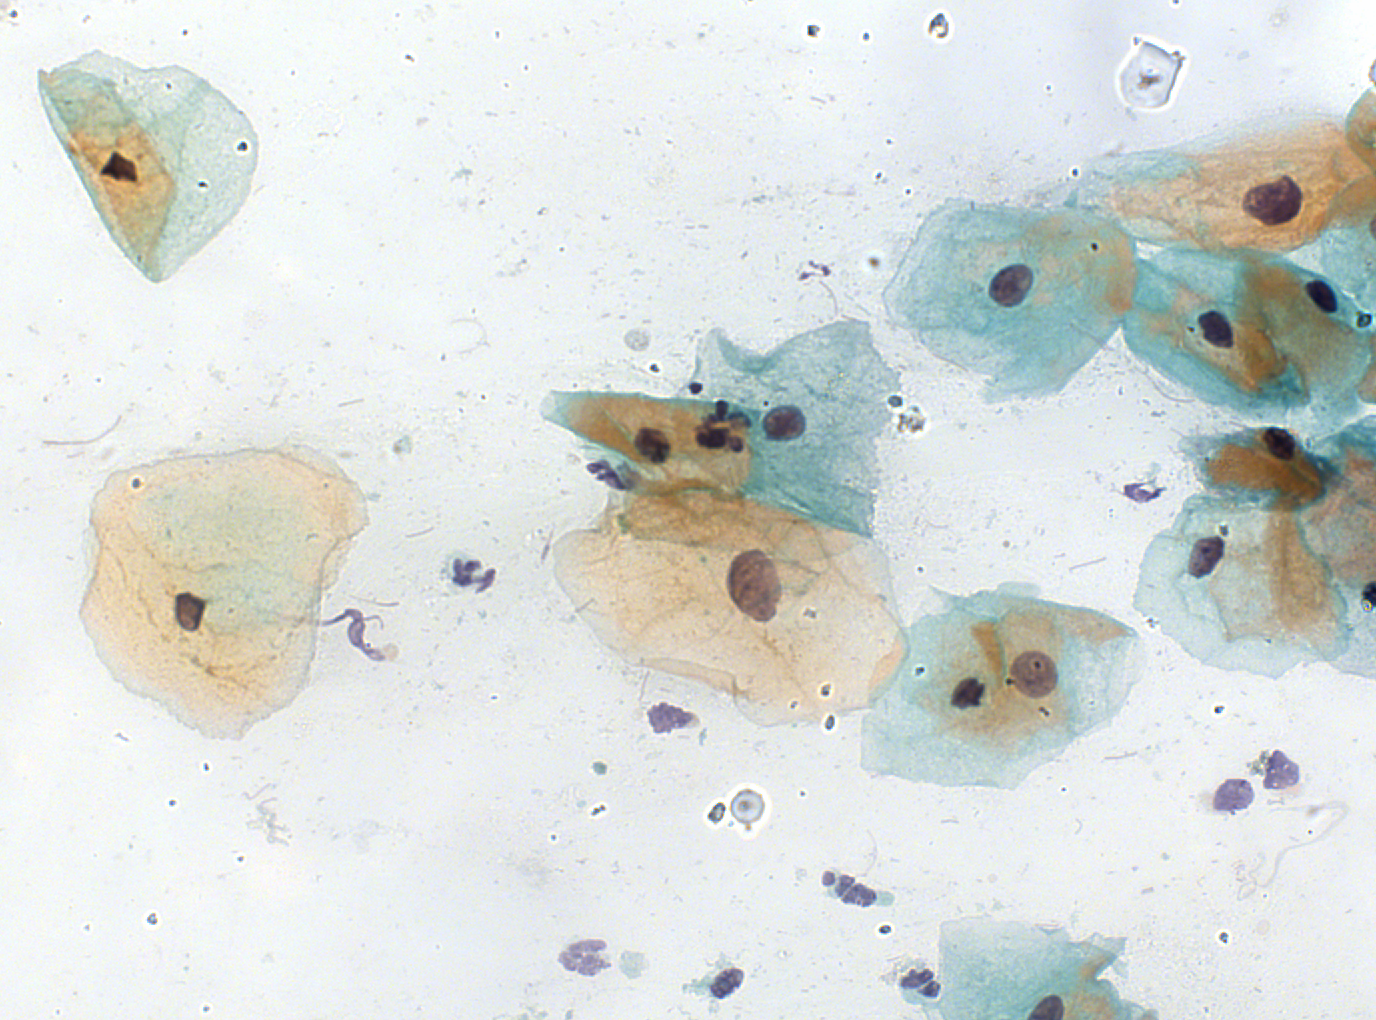Abnormal_Nucleus: (721, 545, 786, 630)
Normal_Nucleus: (1237, 167, 1310, 231), (1179, 525, 1232, 589), (1188, 302, 1244, 358), (162, 584, 215, 640), (983, 259, 1037, 313), (90, 144, 146, 190), (758, 400, 811, 447), (1008, 651, 1058, 700), (629, 423, 677, 471), (947, 674, 992, 718), (1297, 275, 1338, 316), (1257, 426, 1300, 466)
